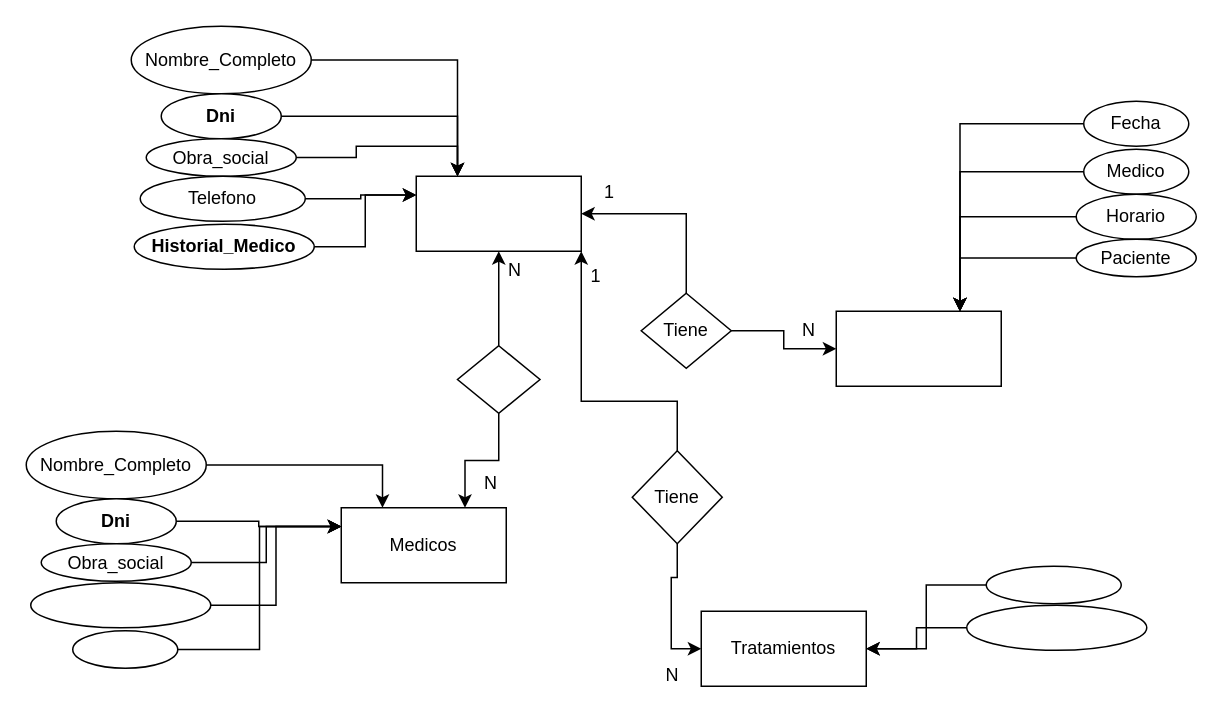
The diagram is 1223 pixels wide and 725 high, and some of its shapes have lost their labels. The box of each missing label's shape, as (x1, y1, x2, y2) in pixels:
Atiende: (456, 344, 540, 413)
Citas: (835, 310, 1001, 386)
Especialidad: (29, 581, 211, 628)
Medicacion: (985, 565, 1121, 604)
Pacientes: (415, 175, 581, 251)
Seguimiento: (965, 604, 1147, 650)
Titulo: (71, 629, 178, 668)
